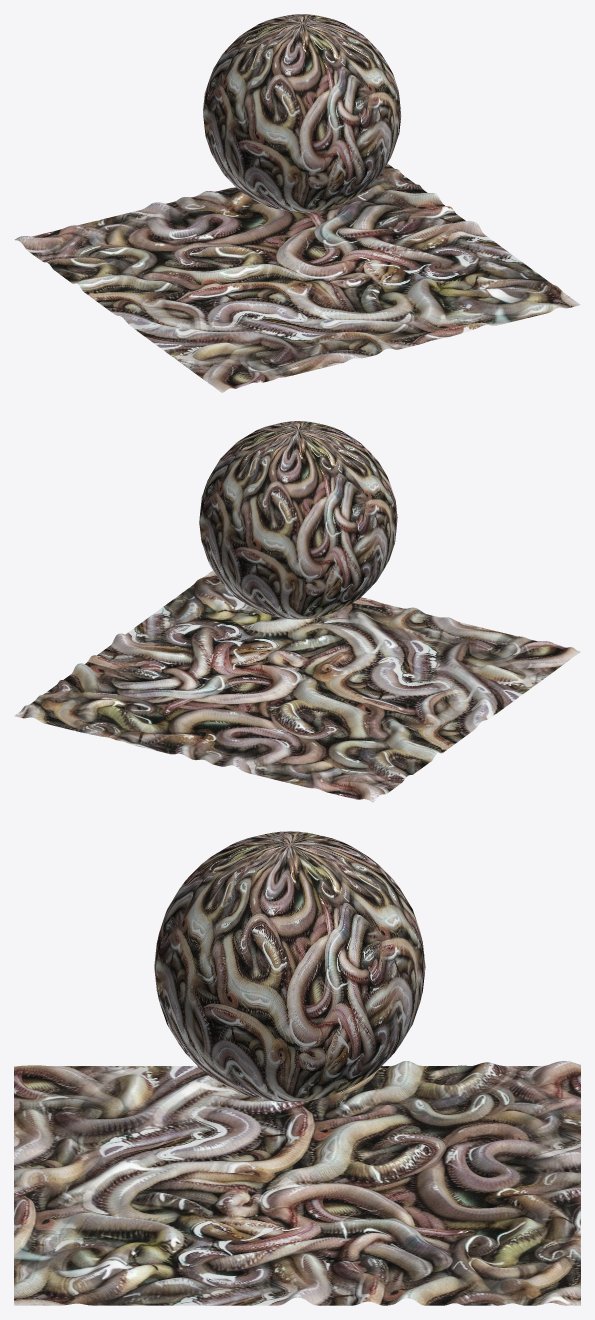
File: demonstration.fbx
3 renders of one model, top to bottom at view 1: azimuth 30°, elevation 25°; view 2: azimuth 150°, elevation 25°; view 3: azimuth 270°, elevation 25°, orthographic. The views are drawn at different scales.
Visible parts, largest first — view 1: mesh, Сфера; view 2: mesh, Сфера; view 3: mesh, Сфера.
Boxes of the visible parts, x1,y1,x2,y2 form: mesh: [14, 163, 580, 392]; Сфера: [203, 14, 401, 212]; mesh: [14, 570, 580, 802]; Сфера: [199, 421, 397, 619]; mesh: [14, 1061, 580, 1305]; Сфера: [154, 831, 425, 1102].
Bounding box in the file's own units: 200 × 134 × 200.
Materials: 1 (1 with a texture image).
